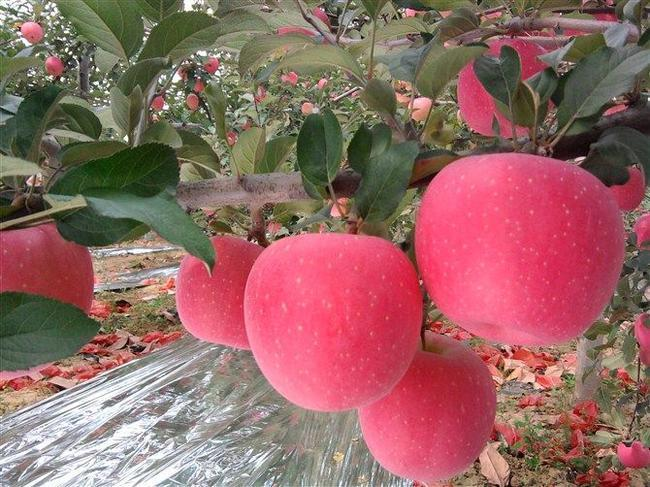apple: (412, 152, 625, 350), (243, 230, 426, 412), (355, 337, 499, 479), (173, 237, 261, 347)
